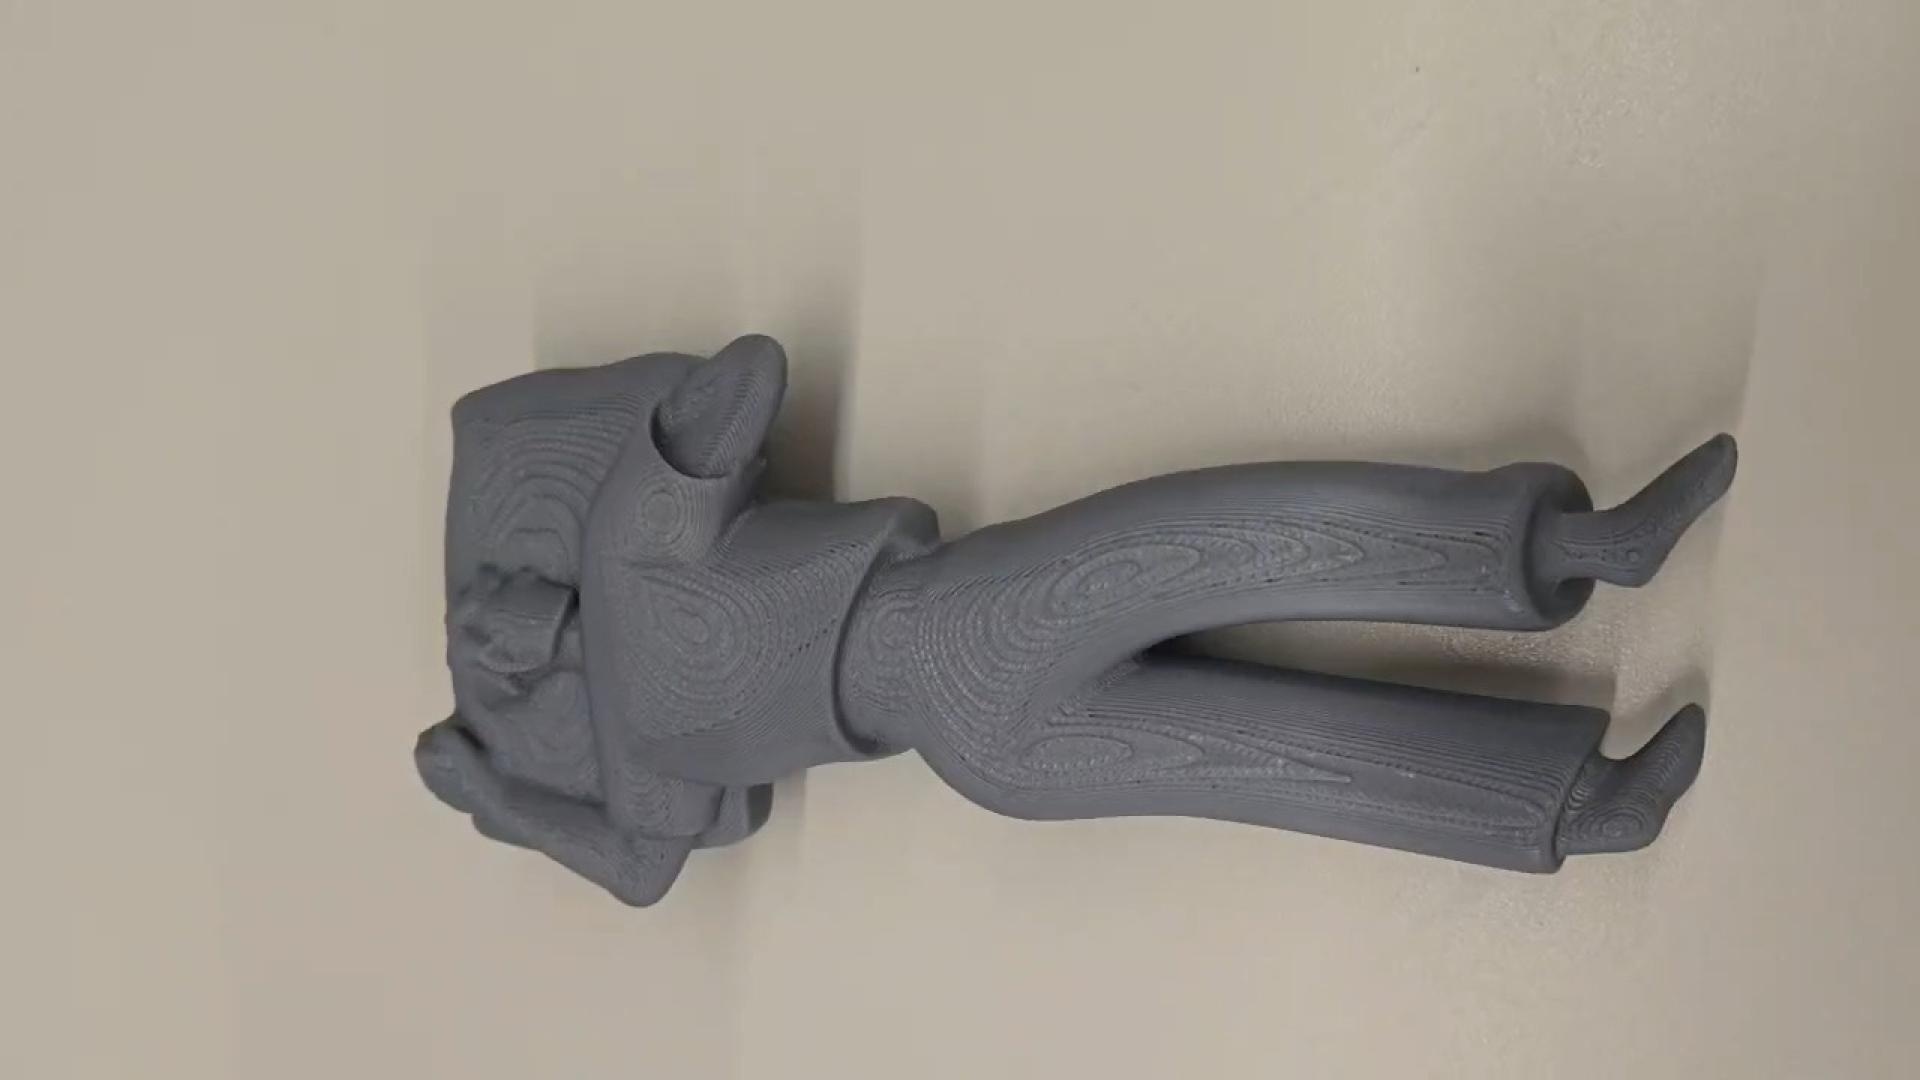Bad-style: (418, 327, 1747, 919)
